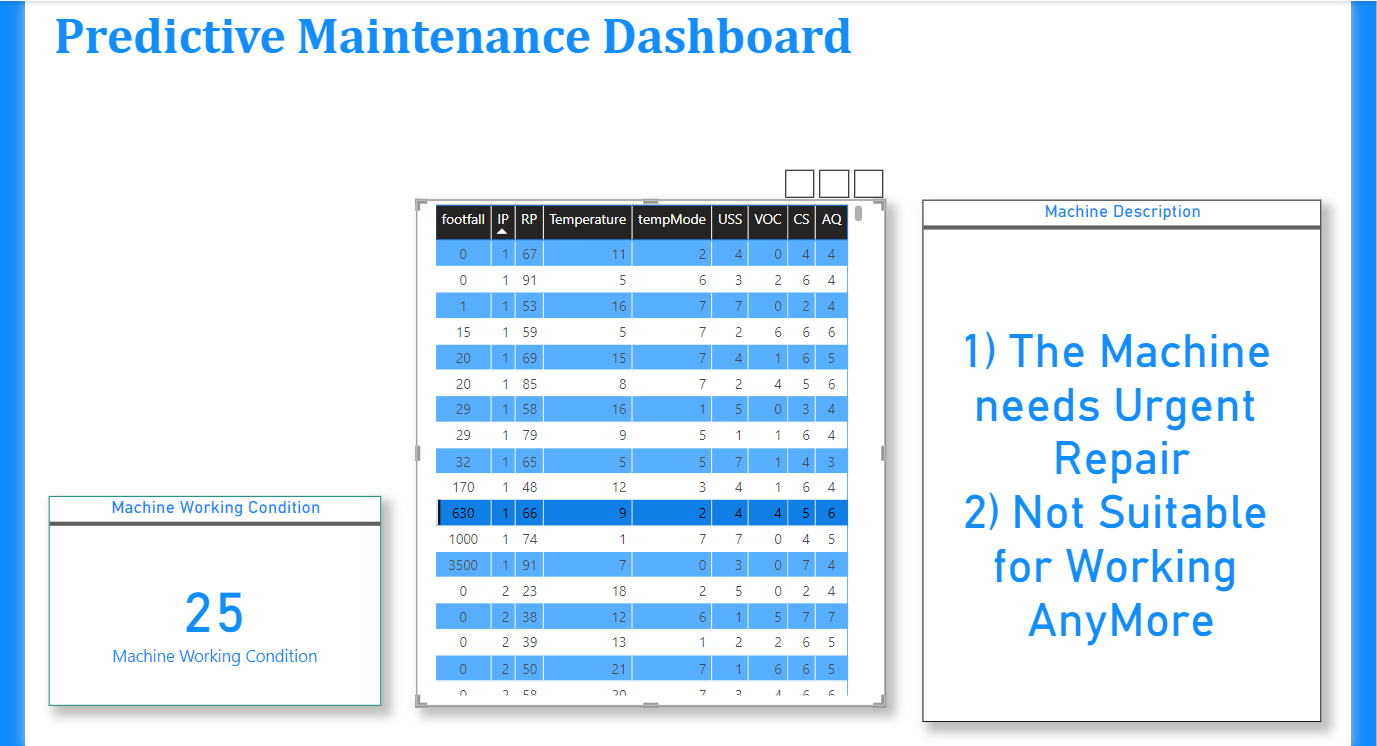

The dashboard page shown, as its layout file describes it:
{"tool":"powerbi","page":{"name":"Page 1","canvas":[1280,720],"ordinal":0},"visuals":[{"type":"tableEx","fields":{"Values":["data_cleaned.footfall","data_cleaned.IP","data_cleaned.RP","data_cleaned.Temperature","data_cleaned.tempMode","data_cleaned.USS","data_cleaned.VOC","data_cleaned.CS","data_cleaned.AQ"]},"box":[377.6,191.8,452.4,488.6],"z":0},{"type":"card","title":"Machine Working Condition","fields":{"Values":["Max(data_cleaned.machine_condition(%))"]},"box":[22.9,477.8,320.9,202.7],"z":1000},{"type":"card","title":"Machine Description","fields":{"Values":["data_cleaned.MachineConditionMessage"]},"box":[866.2,191.8,384.9,504.3],"z":2000},{"type":"textbox","box":[22.9,0,807.1,73.6],"z":2001}]}

Visuals, with their boxes on the page's 1280x720 design canvas (x1, y1, x2, y2). These are canvas units, not pixel positions in the 1377x746 screenshot, which may show the page scaled, cropped or inside an application window:
tableEx - data_cleaned.footfall x data_cleaned.IP: 378:192:830:680
"Machine Working Condition" card: 23:478:344:680
"Machine Description" card: 866:192:1251:696
textbox: 23:0:830:74
